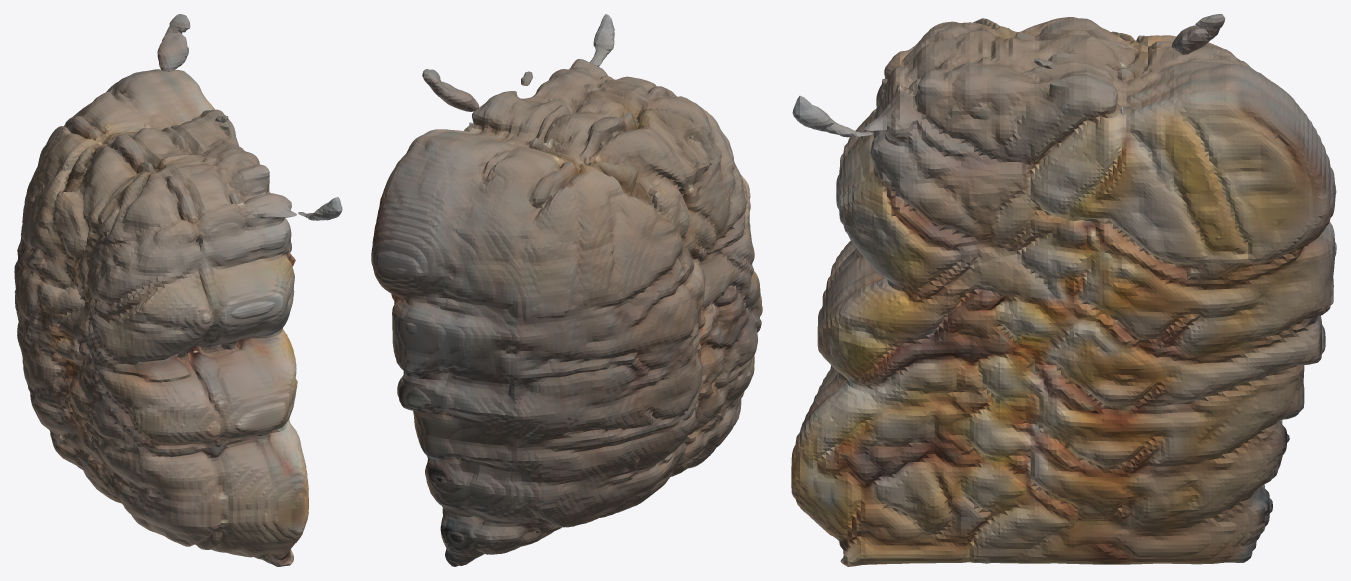
3 views of the same model, side by side, from view 1: azimuth 30°, elevation 25°; view 2: azimuth 150°, elevation 25°; view 3: azimuth 270°, elevation 25° (orthographic). The views are drawn at different scales.
Parts seen in each view (by area): view 1: world; view 2: world; view 3: world.
Part boxes in pixels (x1,y1,x2,y2): world: [14, 14, 342, 566]; world: [371, 14, 762, 566]; world: [791, 14, 1336, 566].
Size of the model in its own units: 0.5241 by 0.9905 by 0.8552.
